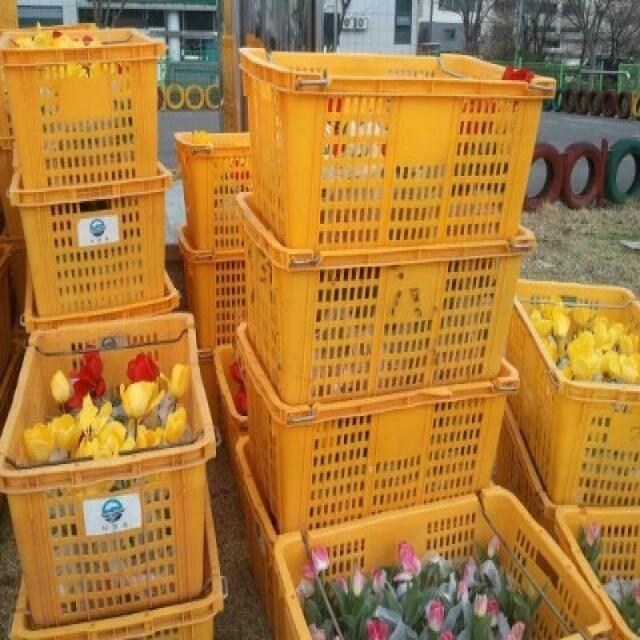basket: (0, 304, 243, 632), (214, 192, 538, 430), (213, 325, 523, 561), (237, 48, 558, 255), (298, 447, 639, 640), (0, 15, 179, 191), (8, 162, 179, 318), (214, 435, 304, 635), (176, 217, 261, 352), (175, 131, 253, 251), (24, 272, 180, 332), (196, 343, 263, 471), (270, 533, 312, 640)
